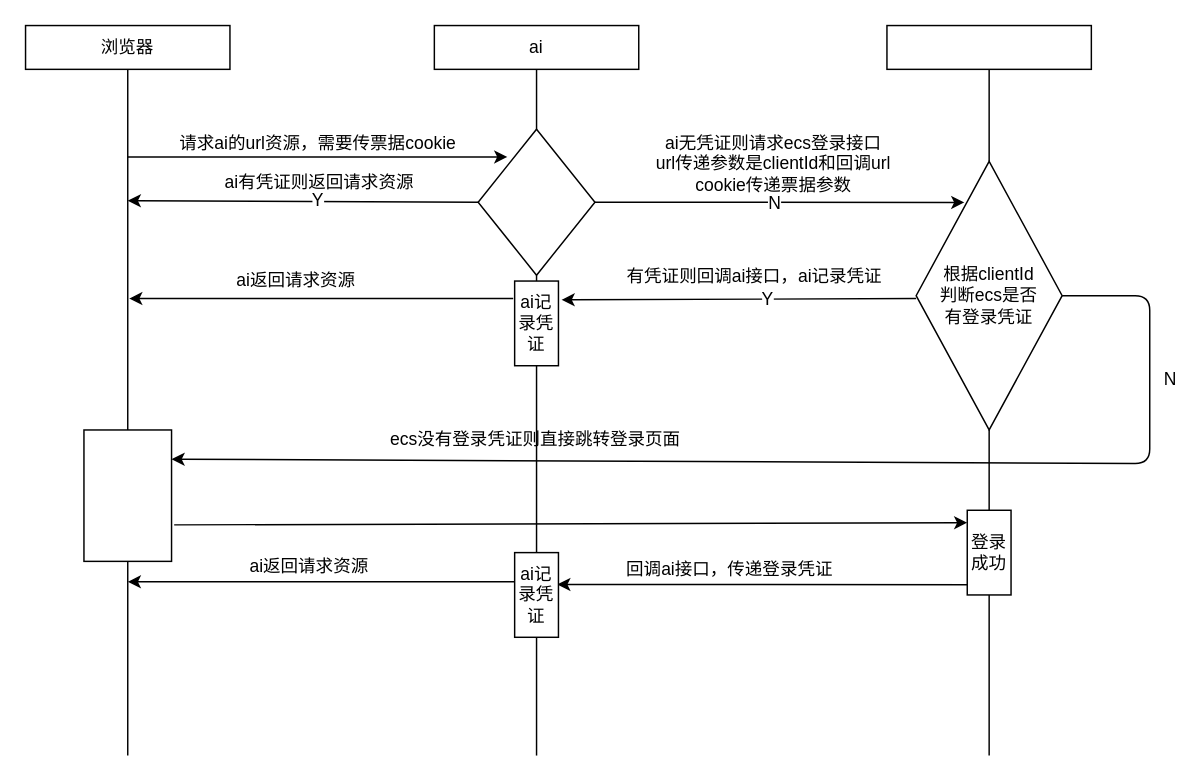
Image size: 1202x783. Some labels were removed from this diagram. Here are the shapes that lost their labels. From the top down, the centre of each, then its label:
At (x=988, y=46): "ecs".
At (x=536, y=201): "判断ai的session是否有登录凭证".
At (x=127, y=495): "登录成功则跳转ai的回调地址".
